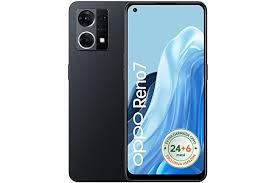Smartphone: (128, 6, 203, 180), (69, 2, 128, 175)
